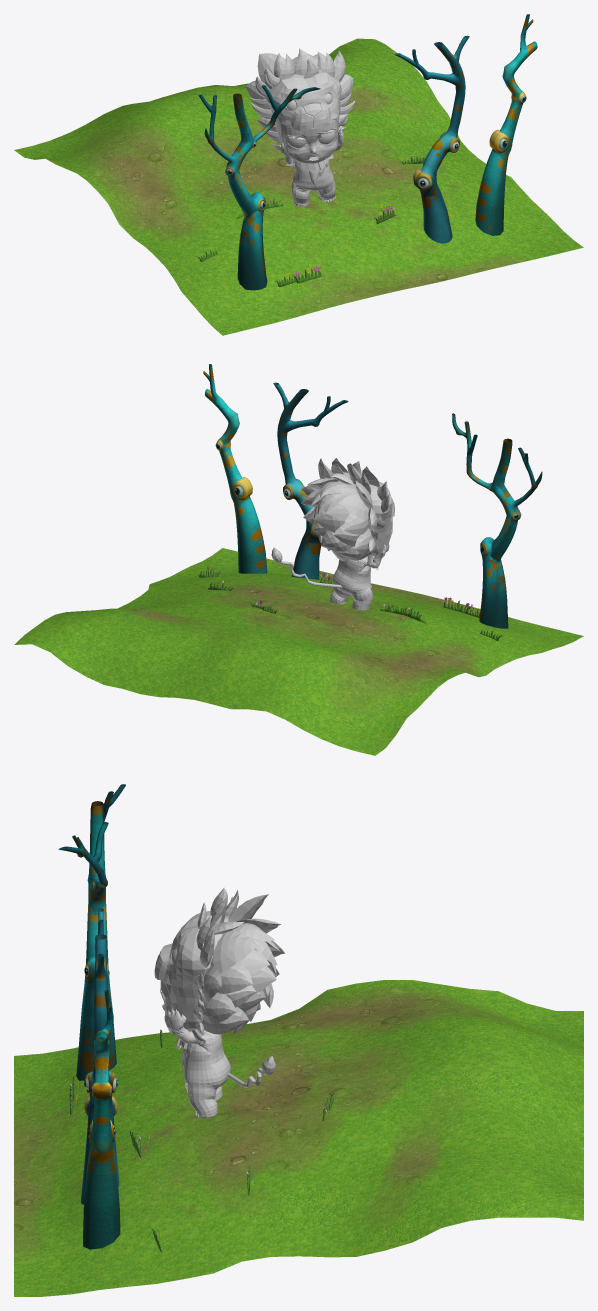
The picture shows the model from 3 angles, top to bottom: view 1: azimuth 30°, elevation 25°; view 2: azimuth 150°, elevation 25°; view 3: azimuth 270°, elevation 25°; orthographic projection. The views are drawn at different scales.
Parts seen in each view (by area): view 1: pPlane1, Object004, shu, pasted__polySurface204, polySurface13, polySurface14; view 2: pPlane1, Object004, shu, polySurface13, pasted__polySurface204, polySurface14; view 3: pPlane1, Object004, polySurface13, shu, pasted__polySurface204.
Boxes of the visible parts, bbox=[...] form: pPlane1: bbox=[14, 38, 583, 335]; Object004: bbox=[246, 48, 354, 206]; shu: bbox=[198, 85, 320, 290]; pasted__polySurface204: bbox=[394, 35, 469, 243]; polySurface13: bbox=[475, 14, 537, 235]; polySurface14: bbox=[237, 156, 424, 286]; pPlane1: bbox=[14, 548, 583, 755]; Object004: bbox=[271, 458, 394, 610]; shu: bbox=[452, 413, 542, 628]; polySurface13: bbox=[203, 364, 267, 573]; pasted__polySurface204: bbox=[273, 382, 348, 579]; polySurface14: bbox=[198, 568, 480, 623]; pPlane1: bbox=[14, 980, 583, 1296]; Object004: bbox=[154, 887, 284, 1118]; polySurface13: bbox=[83, 990, 120, 1249]; shu: bbox=[58, 784, 125, 1080]; pasted__polySurface204: bbox=[80, 908, 119, 1204].
Size of the model in its own units: 78.64 by 44.35 by 78.64.
